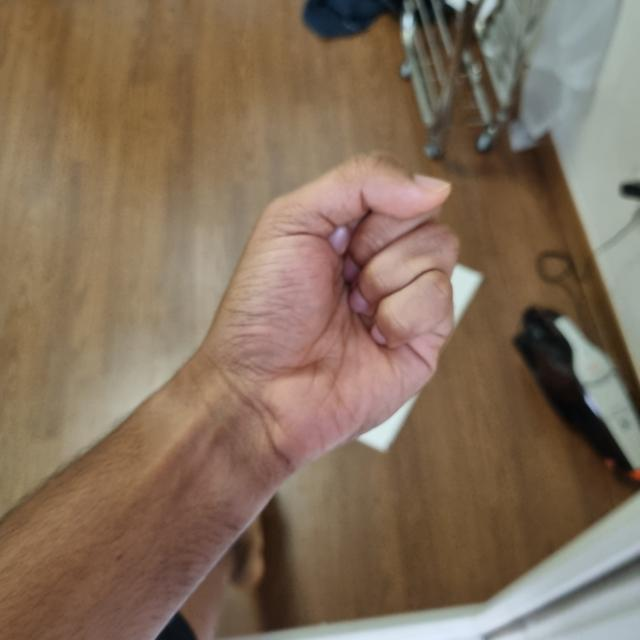Rock: (183, 159, 459, 473)
